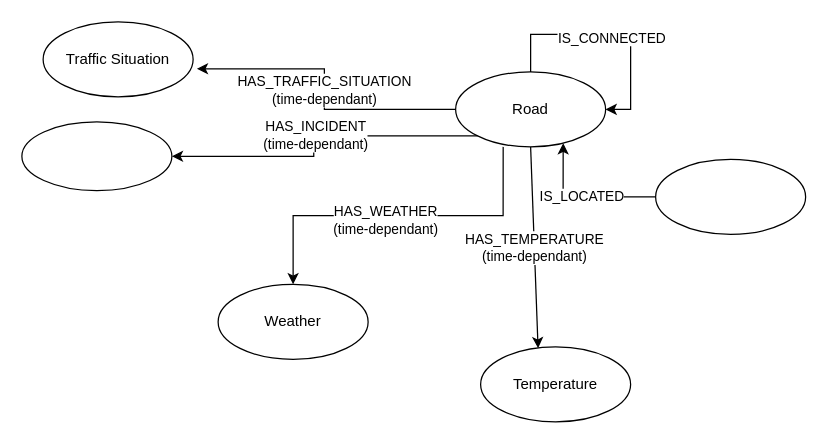
This 828x444 diagram has some shape labels left out. The box of each missing label's shape, as (x1, y1, x2, y2) in pixels:
Incident: (21, 121, 172, 191)
Points of interest: (654, 158, 806, 234)
